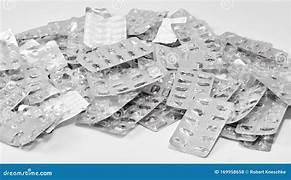pill_Strip: (11, 91, 87, 145), (170, 96, 232, 156), (17, 17, 84, 63), (91, 93, 163, 135), (87, 59, 165, 95), (139, 72, 184, 130), (77, 37, 153, 71), (105, 93, 163, 134), (0, 107, 59, 146), (235, 91, 287, 134), (173, 20, 222, 65), (221, 32, 287, 64), (77, 91, 138, 124), (38, 22, 85, 63), (40, 91, 88, 131), (15, 16, 84, 43), (14, 106, 60, 146), (227, 76, 266, 123), (222, 44, 287, 72), (167, 69, 213, 108), (84, 7, 126, 47), (173, 20, 222, 52), (88, 63, 137, 95), (252, 66, 290, 104), (42, 91, 88, 122), (139, 101, 185, 131), (53, 66, 93, 100), (21, 41, 66, 71), (128, 12, 174, 41), (176, 71, 213, 107), (126, 9, 166, 41), (181, 30, 222, 60), (238, 38, 287, 63), (34, 24, 83, 49), (0, 66, 47, 91), (83, 7, 111, 47), (42, 108, 85, 134), (172, 19, 215, 44), (167, 71, 196, 108), (220, 32, 271, 53), (237, 51, 287, 72), (126, 9, 166, 35), (222, 32, 271, 53), (238, 41, 284, 63), (172, 19, 214, 43), (179, 45, 221, 69), (55, 31, 85, 63), (113, 37, 153, 60), (20, 40, 60, 63), (152, 17, 186, 44), (186, 32, 222, 57), (141, 71, 174, 98), (49, 67, 87, 90), (240, 52, 286, 71), (201, 67, 249, 85), (16, 25, 59, 45), (180, 45, 217, 68), (200, 65, 246, 83), (0, 81, 28, 110), (16, 25, 59, 43), (13, 126, 46, 149), (24, 83, 60, 104), (238, 39, 277, 58), (0, 110, 21, 145), (154, 44, 183, 69), (225, 59, 254, 84), (128, 54, 169, 71), (210, 77, 240, 100), (22, 64, 47, 91), (72, 45, 100, 69), (200, 39, 223, 68), (0, 39, 21, 70), (48, 16, 84, 34), (220, 124, 258, 141), (49, 67, 77, 89), (20, 131, 52, 150), (225, 58, 251, 81), (129, 22, 160, 41), (222, 44, 250, 65), (0, 89, 26, 110), (240, 135, 274, 151), (256, 48, 287, 65), (189, 19, 214, 40), (141, 74, 167, 94), (20, 34, 67, 45), (72, 74, 93, 98), (0, 69, 24, 89), (22, 64, 48, 80), (41, 117, 63, 135), (169, 8, 196, 22), (178, 38, 205, 51), (23, 78, 46, 93), (72, 83, 92, 100), (24, 77, 46, 91), (177, 41, 203, 52), (5, 68, 25, 82), (0, 29, 17, 45), (19, 39, 39, 52), (85, 7, 111, 17), (155, 40, 181, 49), (159, 40, 181, 49), (66, 63, 88, 71), (0, 71, 8, 89), (0, 78, 7, 89), (0, 71, 7, 81), (0, 79, 6, 89)
